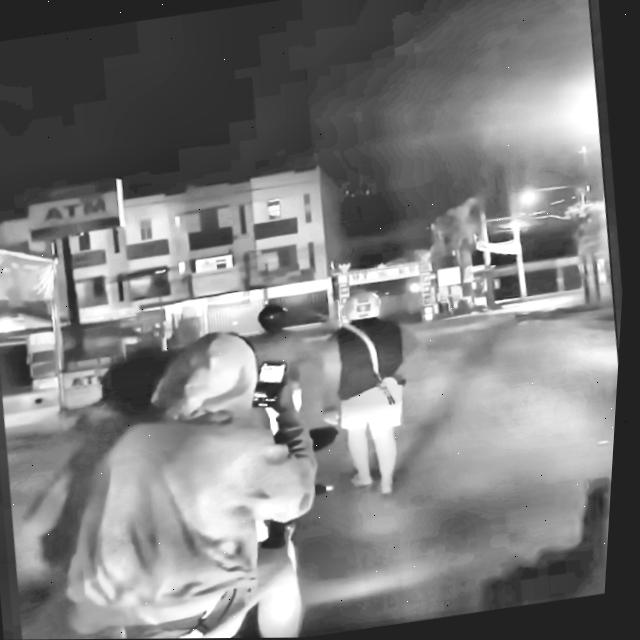robbery: (0, 263, 482, 640)
